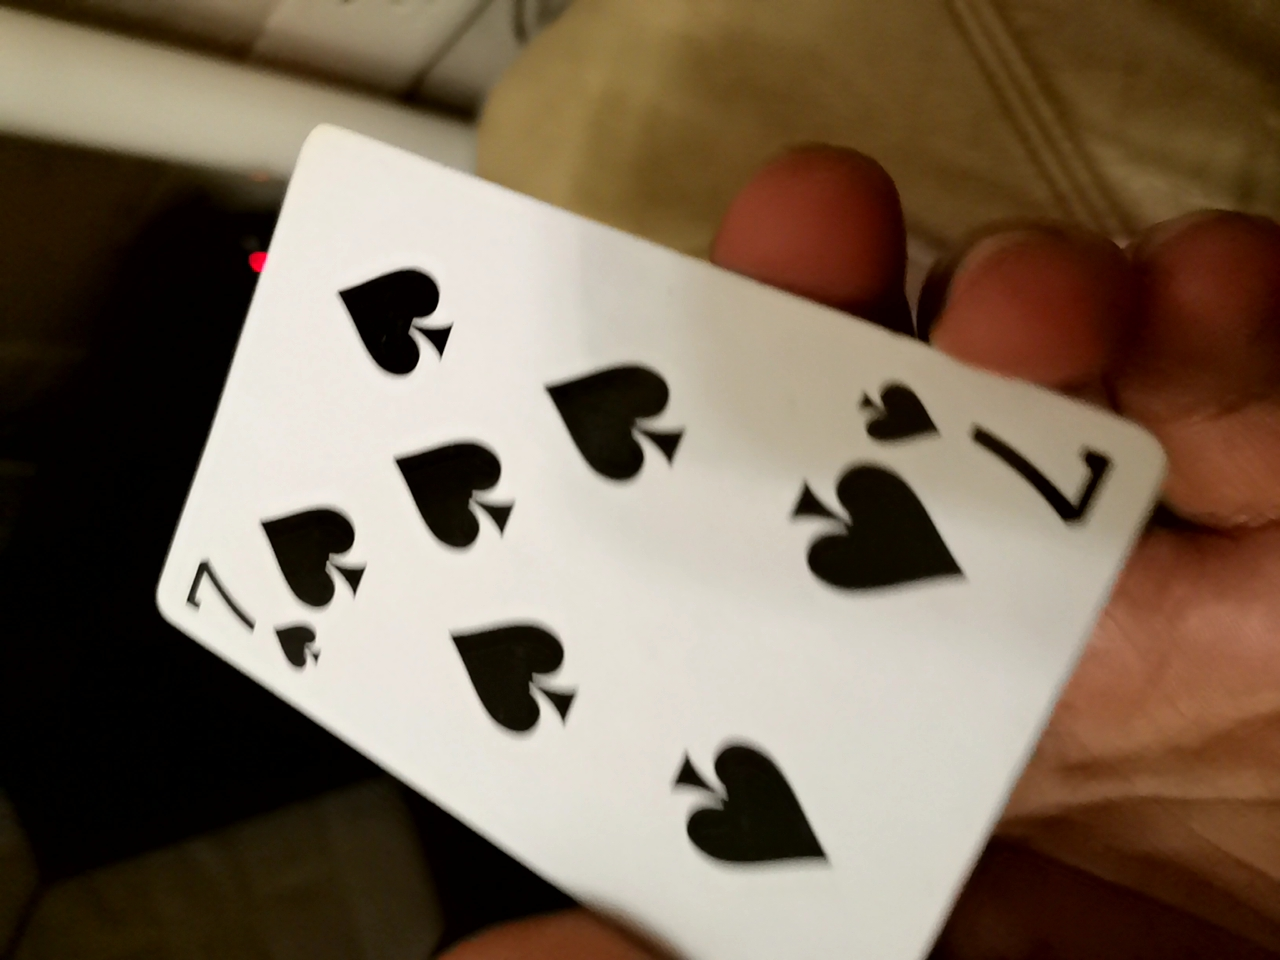ht 7: (118, 158, 1219, 956)
